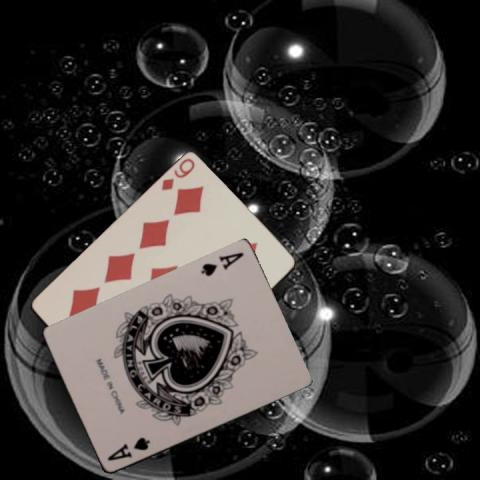9d: (158, 155, 196, 193)
As: (197, 249, 245, 279), (105, 434, 151, 462)
